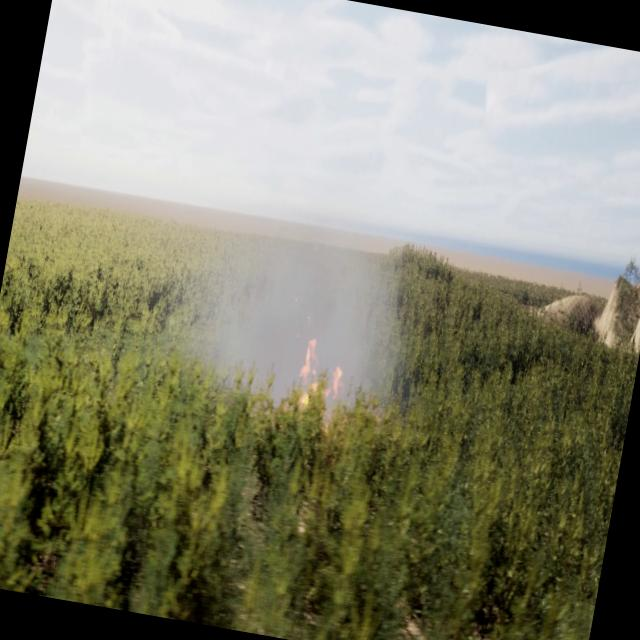fire: (282, 322, 364, 429)
smoke: (172, 136, 441, 430)
